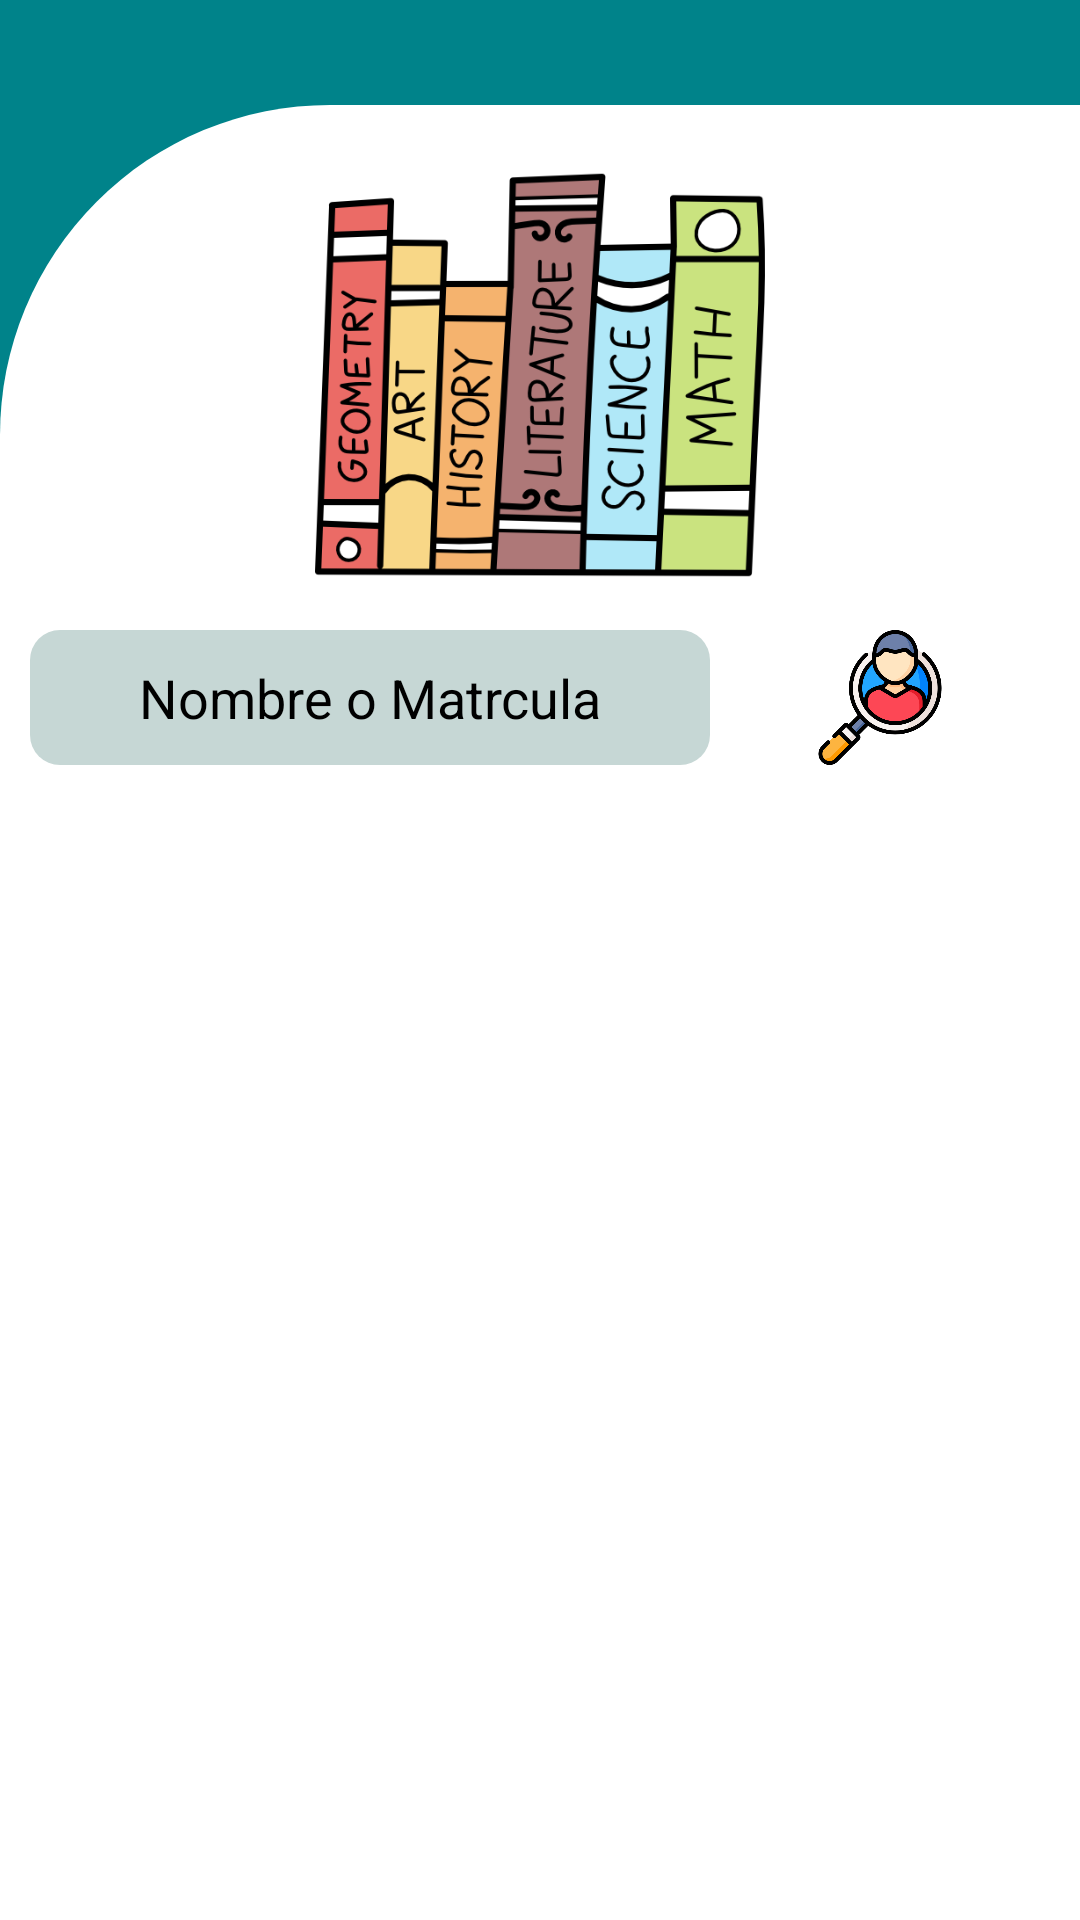

Where to tap for icons on this 1080w x 1920h app screen, as (x,y):
lupa: (880,697)
